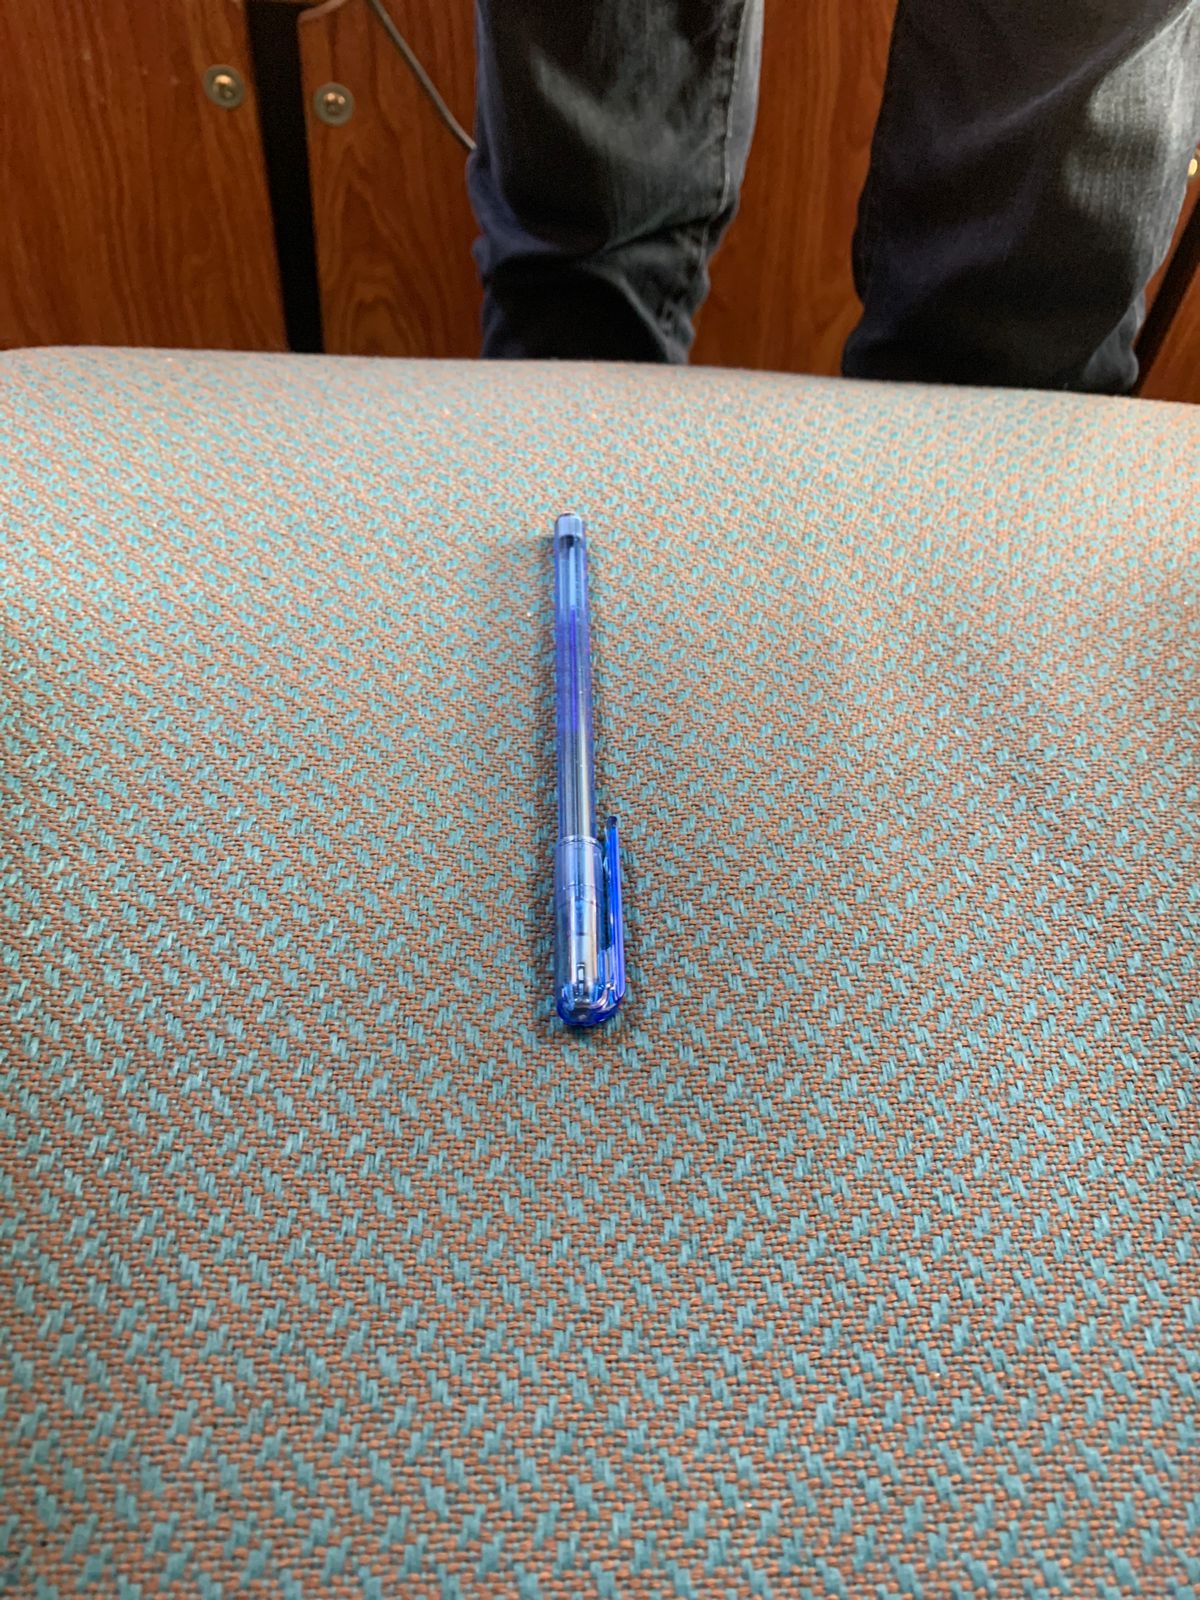pen: (432, 448, 735, 1136)
